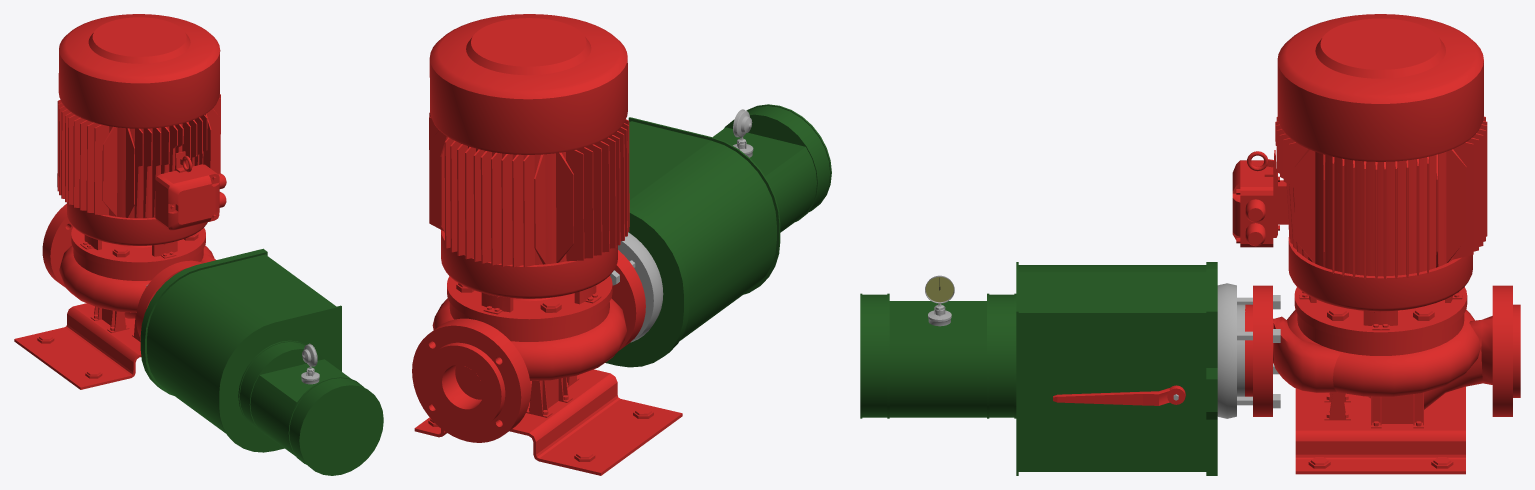
Rendered from Vent+Pump.fbx.
3 views of the same model, side by side, from view 1: azimuth 30°, elevation 25°; view 2: azimuth 150°, elevation 25°; view 3: azimuth 270°, elevation 25° (orthographic). The views are drawn at different scales.
Parts seen in each view (by area): view 1: Pump_16cm, venttiili_Frame, Gauge_Frame, Gauge_Connector; view 2: Pump_16cm, venttiili_Frame, Gauge_Frame, Gauge_Connector; view 3: Pump_16cm, venttiili_Frame, Gauge_Frame, venttiili_Handle, Gauge_Connector.
Boxes of the visible parts, left/top/right/bottom form: Pump_16cm: left=14, top=14, right=226, bottom=389; venttiili_Frame: left=140, top=248, right=341, bottom=452; Gauge_Frame: left=238, top=340, right=383, bottom=475; Gauge_Connector: left=301, top=343, right=319, bottom=384; Pump_16cm: left=412, top=14, right=682, bottom=475; venttiili_Frame: left=605, top=117, right=780, bottom=367; Gauge_Frame: left=713, top=104, right=831, bottom=232; Gauge_Connector: left=733, top=109, right=753, bottom=157; Pump_16cm: left=1232, top=14, right=1520, bottom=474; venttiili_Frame: left=1016, top=262, right=1280, bottom=475; Gauge_Frame: left=860, top=293, right=1016, bottom=418; venttiili_Handle: left=1053, top=385, right=1185, bottom=405; Gauge_Connector: left=925, top=275, right=954, bottom=326.
Bounding box in the file's own units: 31.02 × 55.7 × 84.45.
